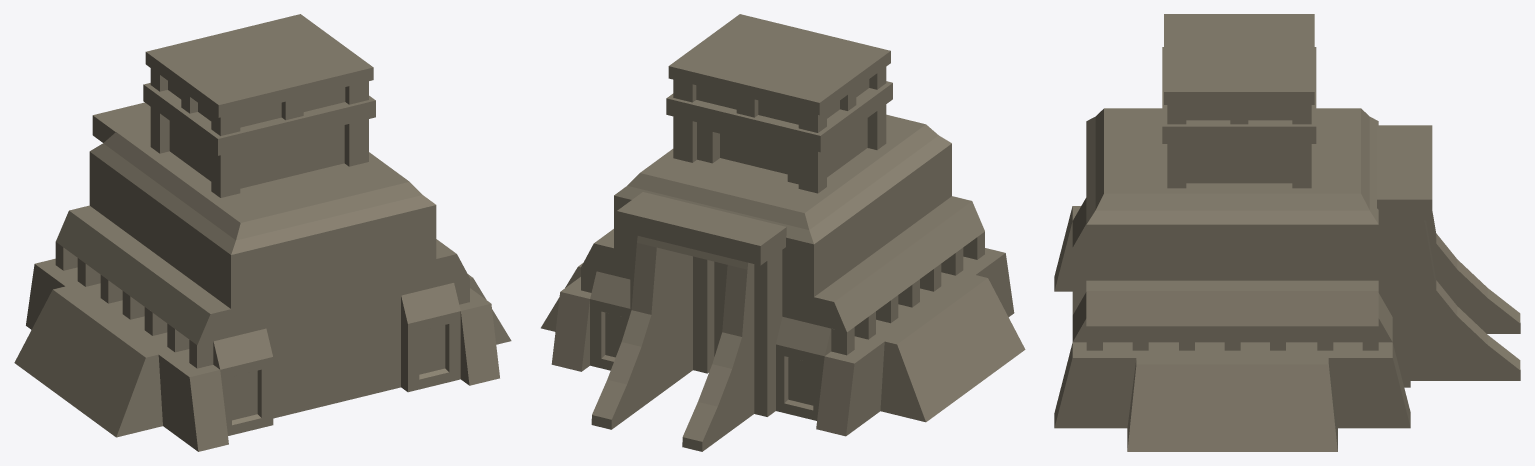
File: TempleDoor_A.fbx
3 renders of one model, left to right at view 1: azimuth 30°, elevation 25°; view 2: azimuth 150°, elevation 25°; view 3: azimuth 270°, elevation 25°, orthographic. The views are drawn at different scales.
Visible parts, largest first — view 1: TempleDoor_A; view 2: TempleDoor_A; view 3: TempleDoor_A.
Part boxes in pixels (left/top/right/bottom): TempleDoor_A: left=14, top=14, right=511, bottom=451; TempleDoor_A: left=541, top=14, right=1025, bottom=451; TempleDoor_A: left=1054, top=14, right=1520, bottom=451.
Bounding box in the file's own units: 2200 × 1541 × 2175.
